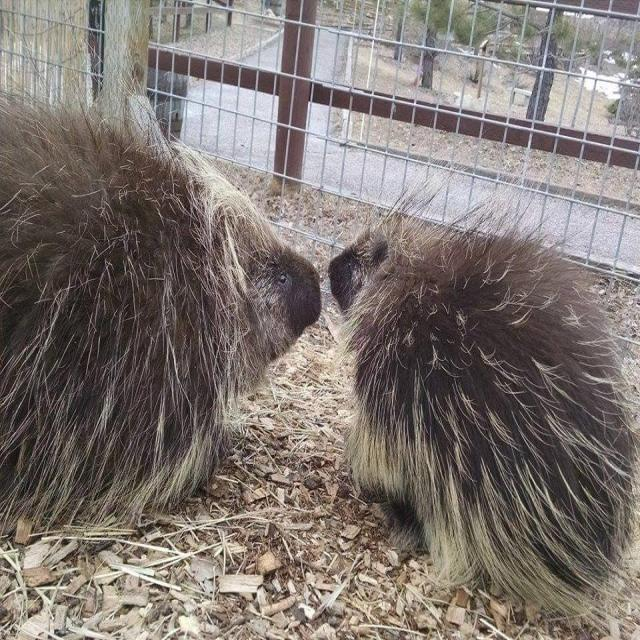Porcupine: (0, 104, 324, 528), (326, 219, 633, 619)
